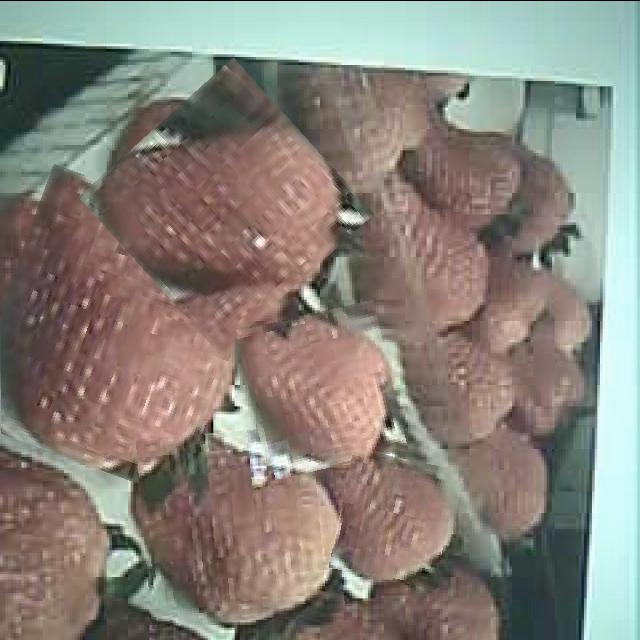strawberry: (0, 179, 252, 482), (100, 78, 352, 332), (140, 426, 342, 624), (242, 305, 400, 473), (334, 452, 459, 584)
